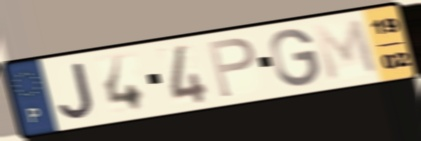4: (167, 42, 210, 106), (105, 52, 149, 114)
G: (268, 26, 323, 89)
J: (56, 60, 97, 121)
M: (310, 16, 383, 84)
P: (205, 35, 259, 100)
